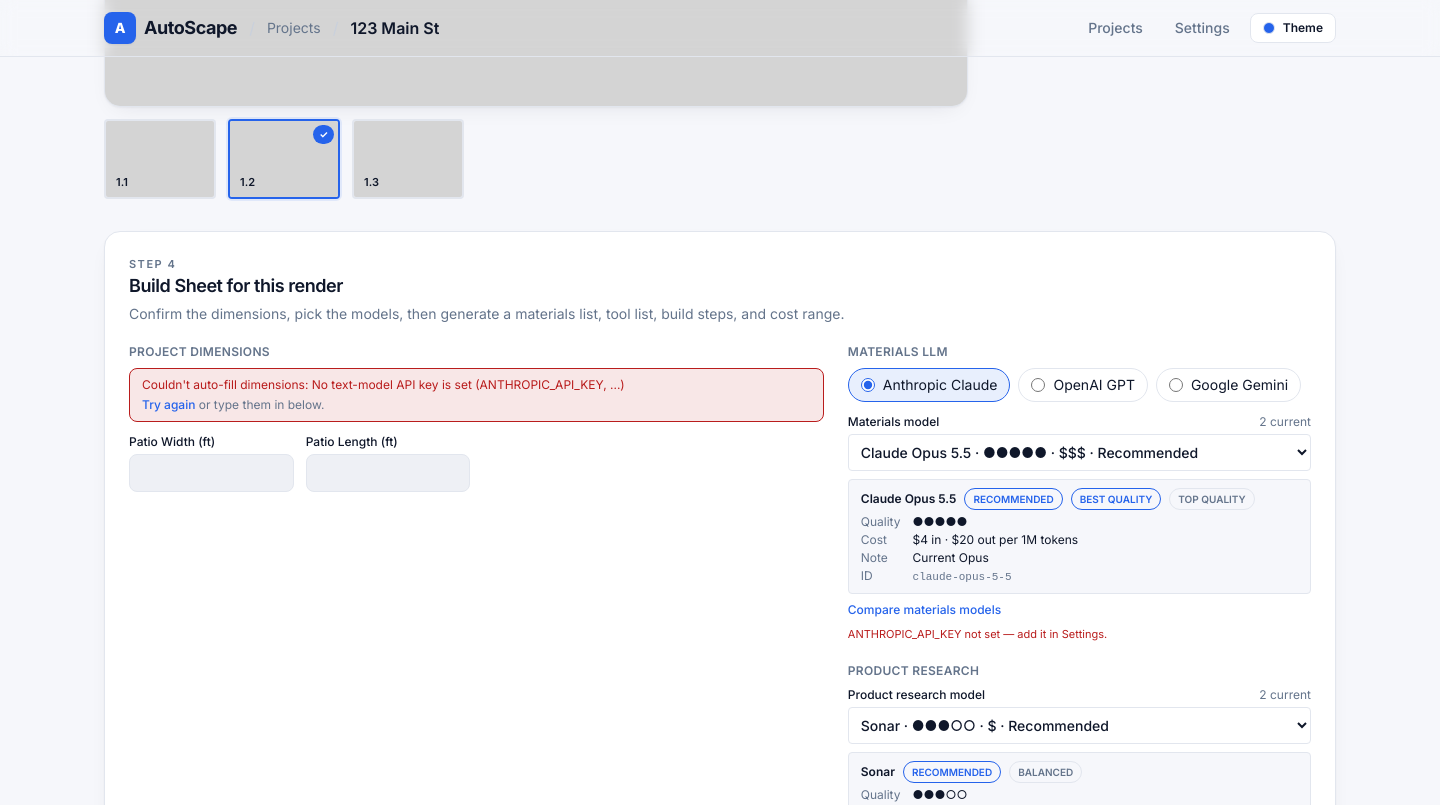
Test: Hero — new renders and dimension auto-fill › sends the materials preference when auto-filling dimensions and shows failures with a retry
This screenshot has width=1440, height=805.
(page scrolled)
Expected: the message shows "Couldn't auto-fill dimensions: No text-model API key is set", [129,368,824,422]
Click the button "Try again" at [169, 405], box [142,397,195,413]
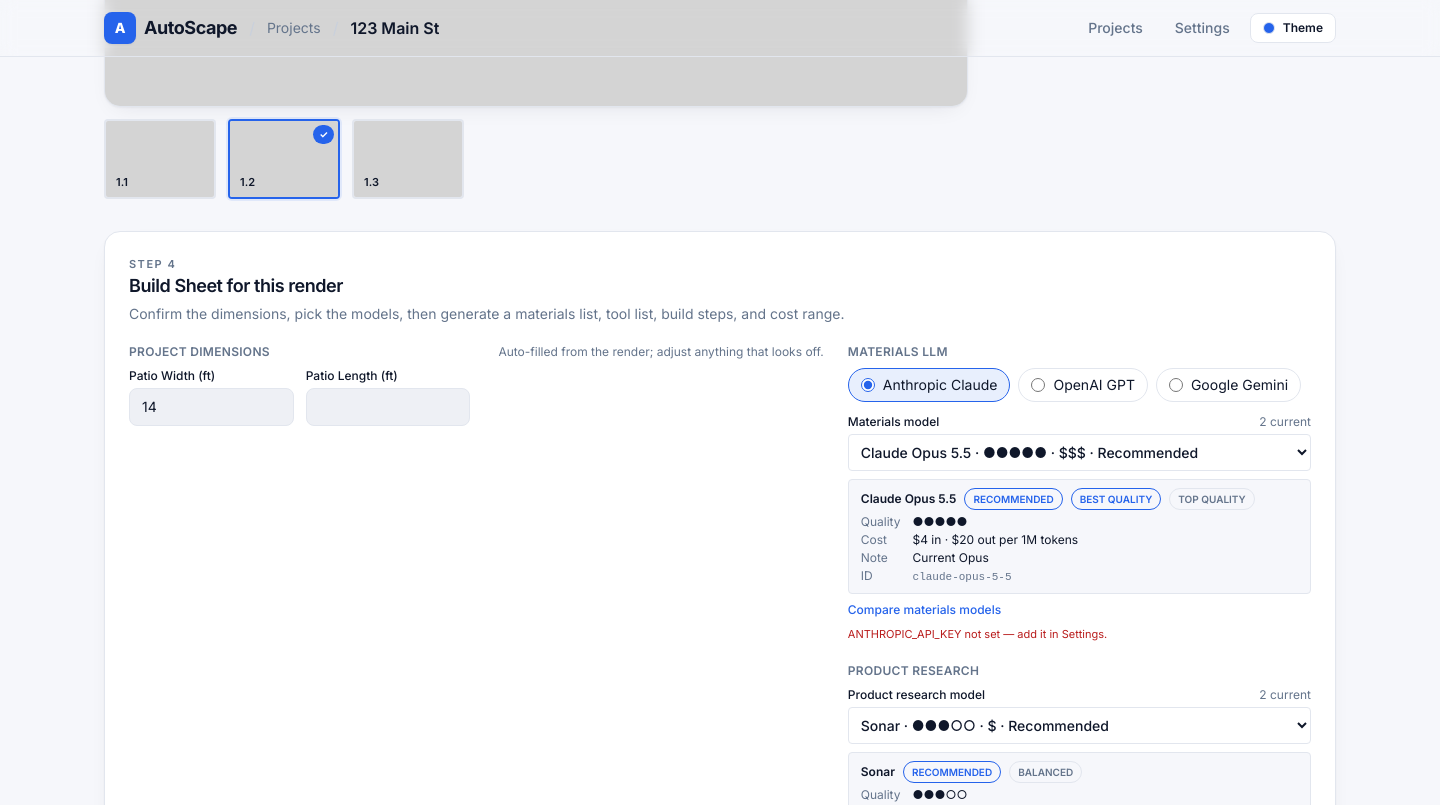
Result: the number field labelled "Patio Width (ft)" holds "14" at [129,388,294,426]
Result: the text "Auto-filled from the render; adjust anything that looks off." is shown at [498,344,824,360]
